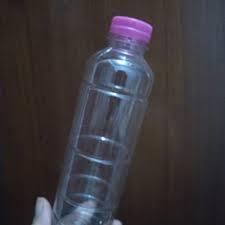BIODEGRADABLE: (55, 16, 153, 220)
